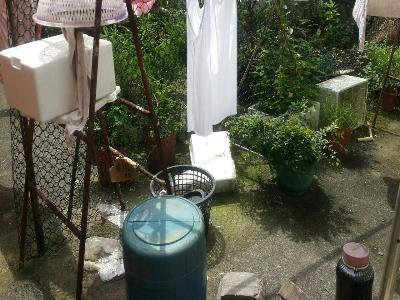bowl: (340, 241, 372, 270)
bucket: (120, 194, 208, 298)
plastic_bag: (84, 236, 123, 279)
styrofoam: (1, 33, 115, 124), (247, 92, 320, 143), (313, 71, 369, 130), (188, 131, 238, 192)
